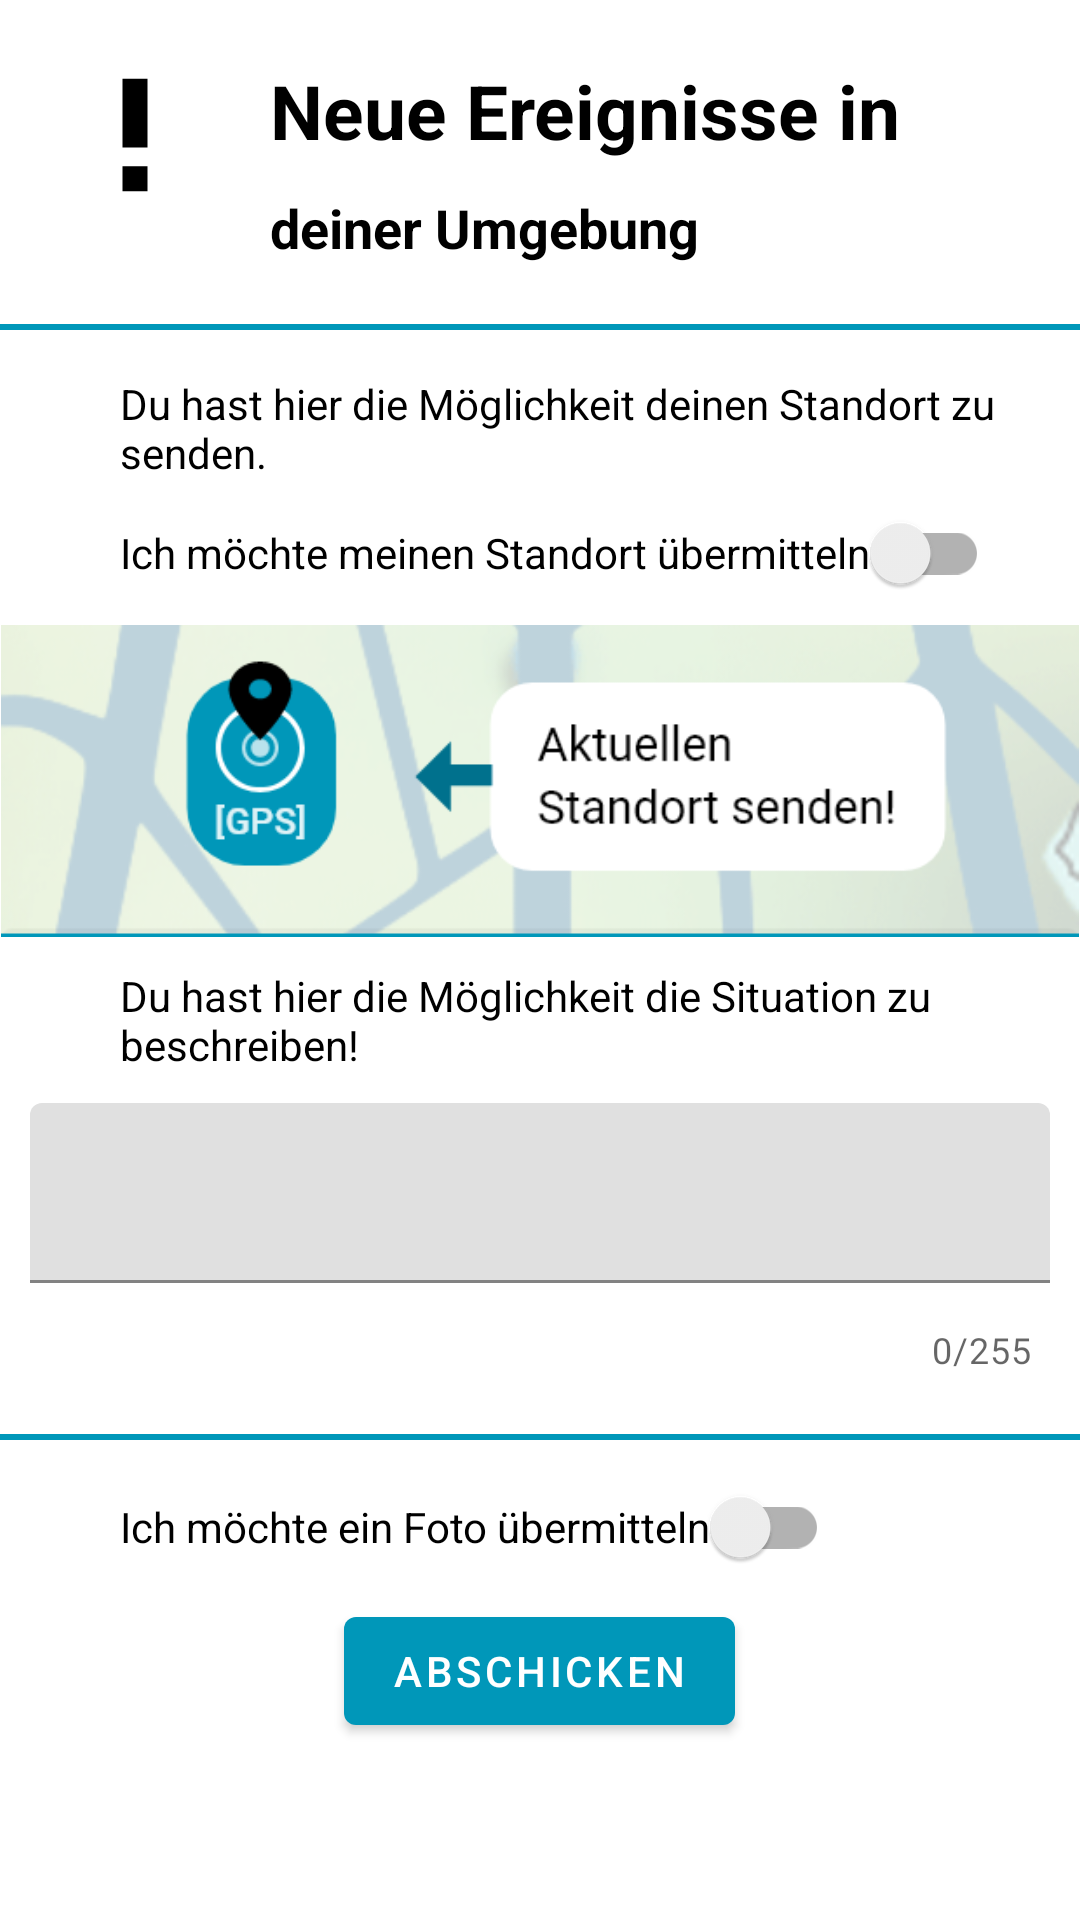

Named icons in this screenshot (1080*1920) and their bounding boxes, (x1=x1, y1=y1, x2=x2, y2=y2):
exclamation thick: (x1=122, y1=78, x2=148, y2=192)
